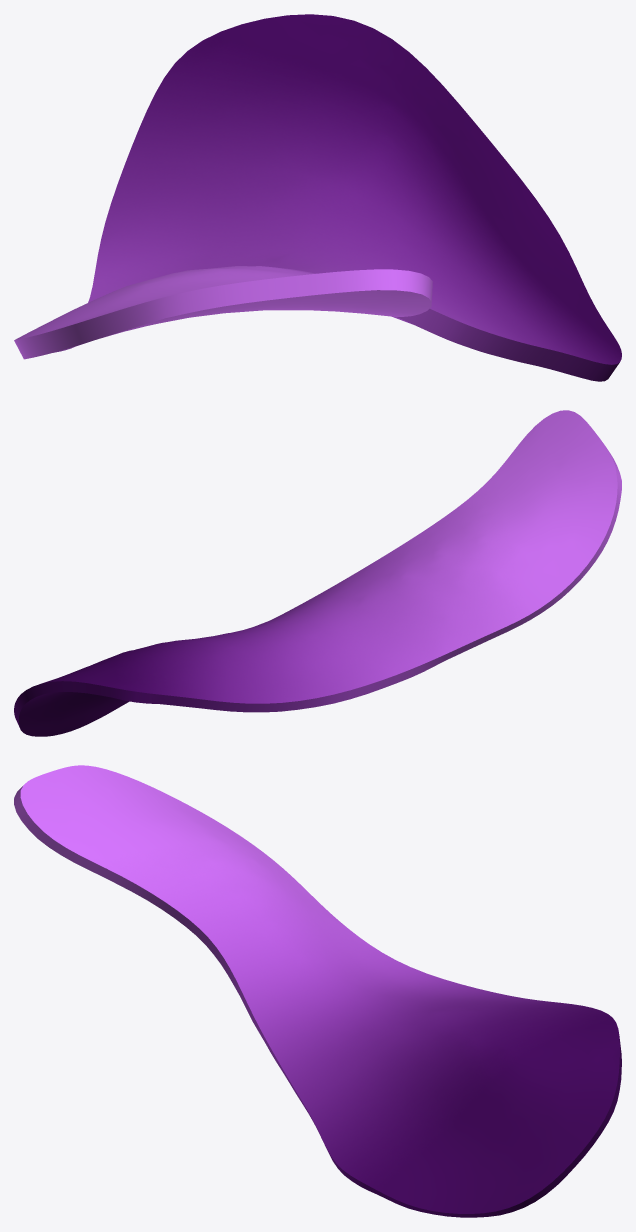
The picture shows the model from 3 angles, top to bottom: view 1: azimuth 30°, elevation 25°; view 2: azimuth 150°, elevation 25°; view 3: azimuth 270°, elevation 25°; orthographic projection. The views are drawn at different scales.
Parts seen in each view (by area): view 1: a1_rh; view 2: a1_rh; view 3: a1_rh.
Boxes of the visible parts, x1,y1,x2,y2 form: a1_rh: (14, 14, 621, 381); a1_rh: (14, 410, 621, 736); a1_rh: (14, 765, 621, 1217).
Bounding box in the file's own units: 132 × 75.17 × 153.
